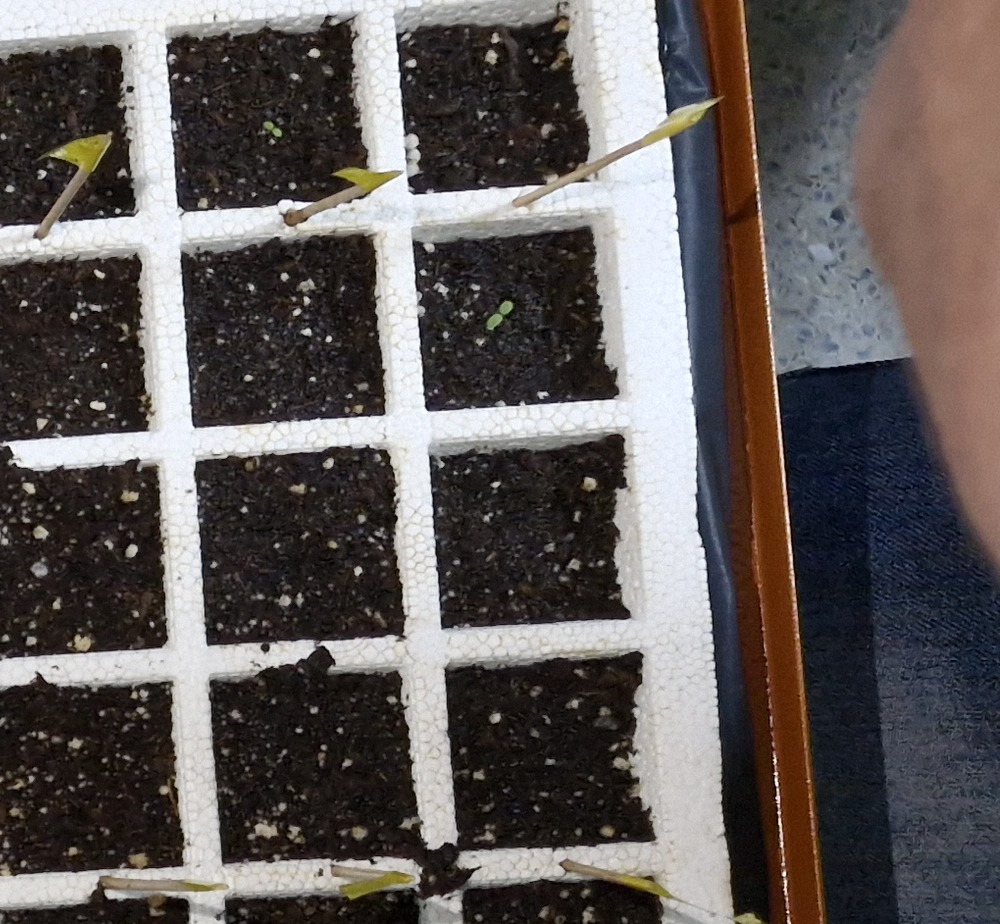Folha: (500, 301, 513, 315), (488, 314, 502, 326)
Germinacao: (487, 300, 513, 328), (263, 121, 283, 136)
